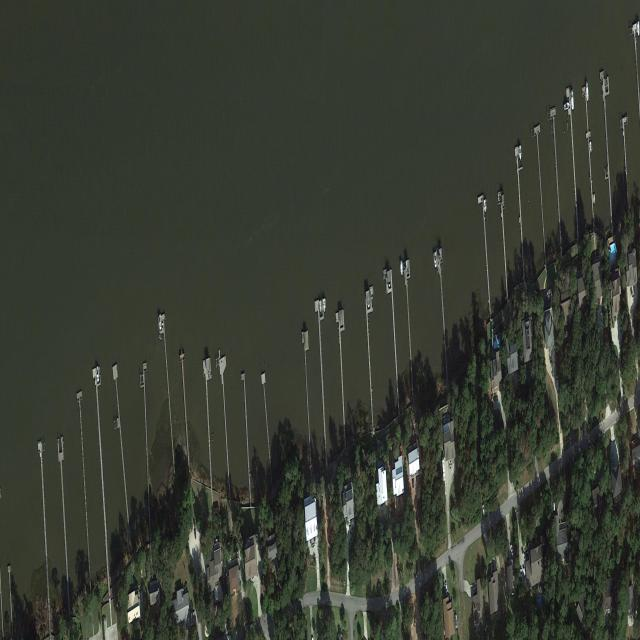ship: (570, 89, 574, 111), (585, 83, 589, 102), (564, 100, 570, 111), (635, 604, 639, 620), (434, 251, 437, 269), (637, 20, 640, 37), (520, 569, 523, 586), (96, 367, 99, 384), (519, 146, 522, 162), (400, 260, 403, 276), (159, 315, 162, 331), (455, 614, 458, 629), (484, 198, 487, 213), (323, 298, 326, 313), (589, 140, 592, 154), (319, 300, 322, 314), (593, 195, 595, 206)
small-vehicle: (510, 543, 514, 557), (522, 549, 526, 562), (350, 525, 354, 537), (482, 504, 485, 518), (250, 622, 255, 630), (194, 528, 197, 540), (445, 582, 448, 594), (191, 610, 195, 617)
